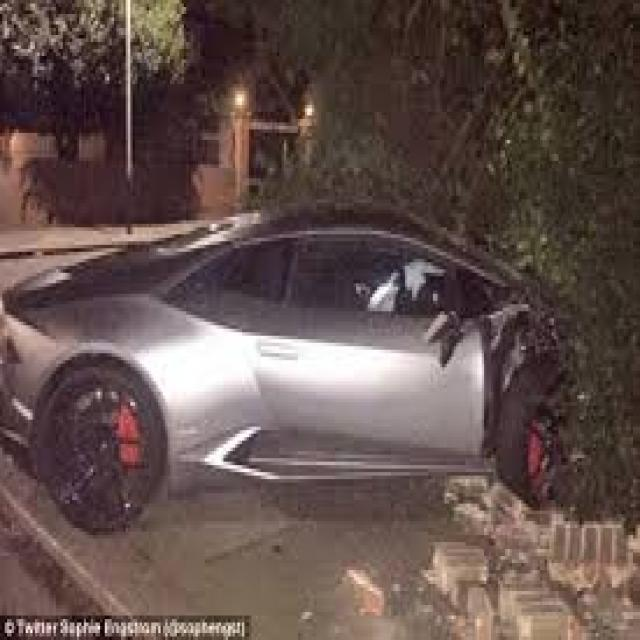minor: (467, 271, 588, 428)
